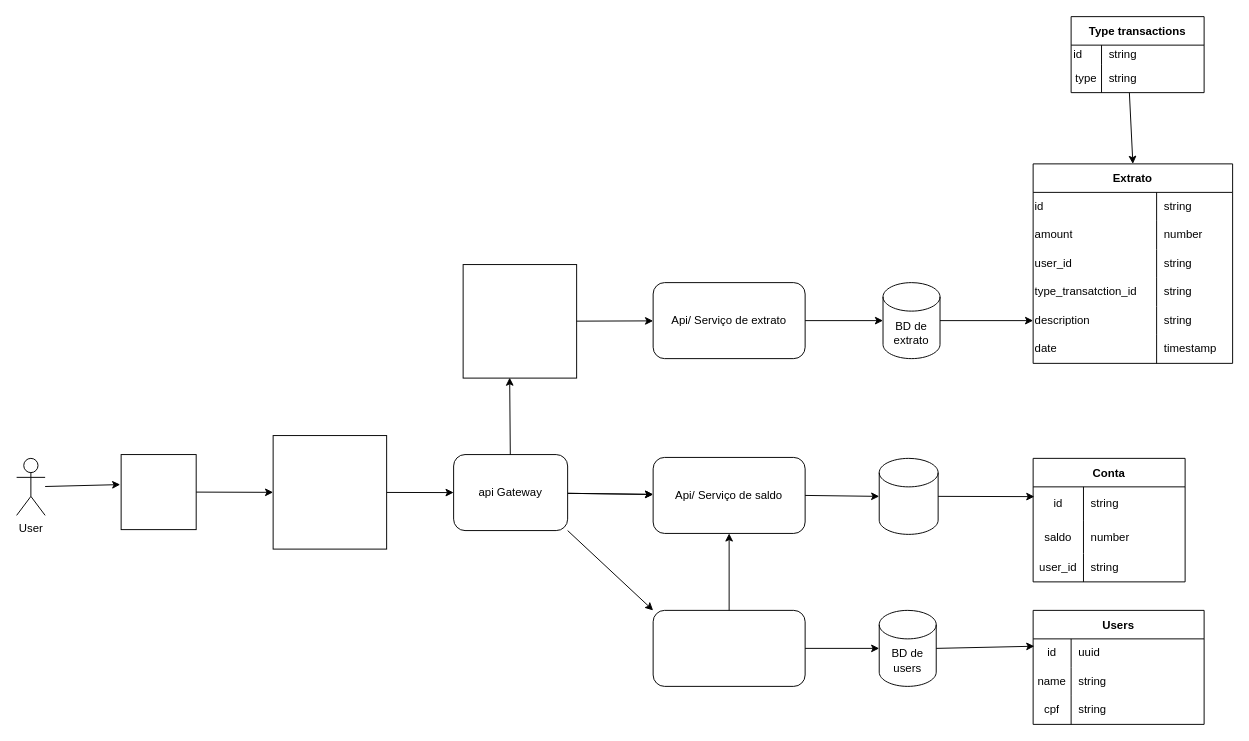
Some shapes in this 1249 by 741 pixel diagram are drawn without their labels. The shapes that lost their labels are listed below. From the top down, each one's centre as x and y in pixels, then its label:
(x=519, y=321): Mensageria
(x=158, y=492): client
(x=329, y=492): Load Balancer
(x=908, y=495): BD de saldo
(x=728, y=647): Api de users
